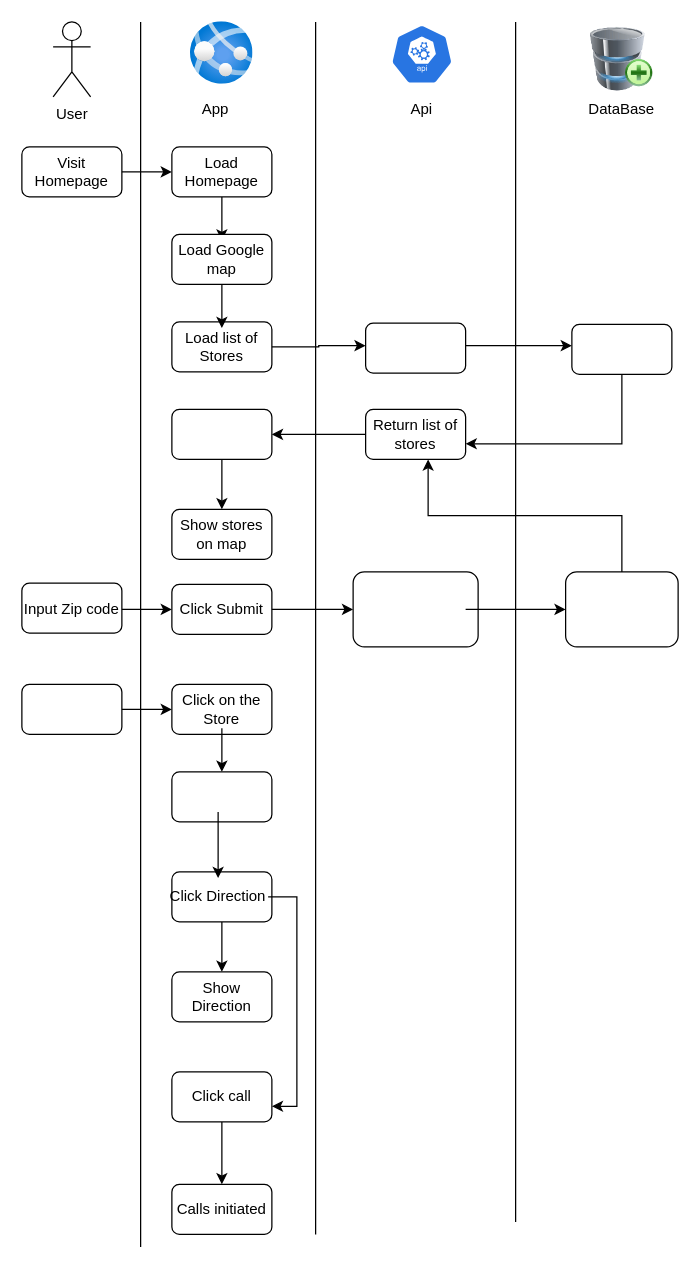
Image size: 700x1270. Some labels were removed from this diagram. Each missing label, with the centre of its shape:
"/Stores Get list of stores" belongs at pixel 415 347.
"/Stores?zip<> Get list of stores based on zipcode" belongs at pixel 415 609.
"Retrive a full list of stores" belongs at pixel 621 348.
"Retrive a list of stores around on zip code" belongs at pixel 621 609.
"Select a Store" belongs at pixel 71 708.
"Show list of store" belongs at pixel 221 433.
"Show store info on the map" belongs at pixel 221 796.
